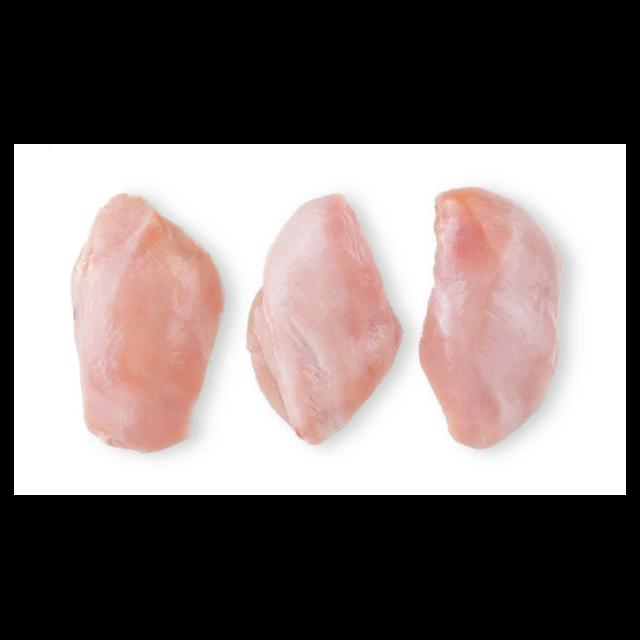chicken: (70, 192, 224, 456), (244, 192, 404, 446), (417, 187, 562, 450)
